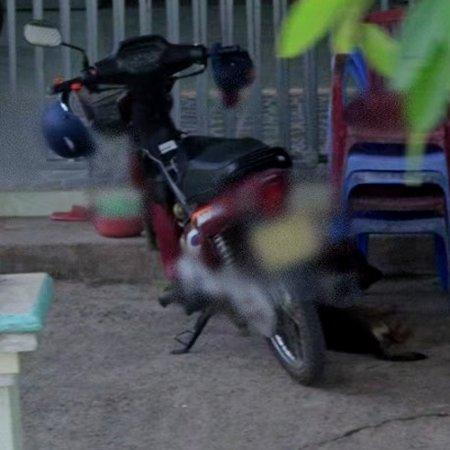motorcycles: (24, 21, 325, 384)
